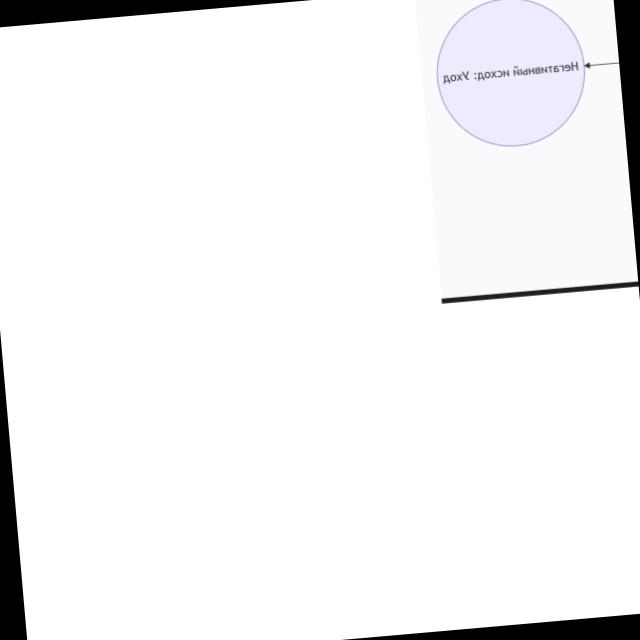circle: (437, 0, 584, 146)
